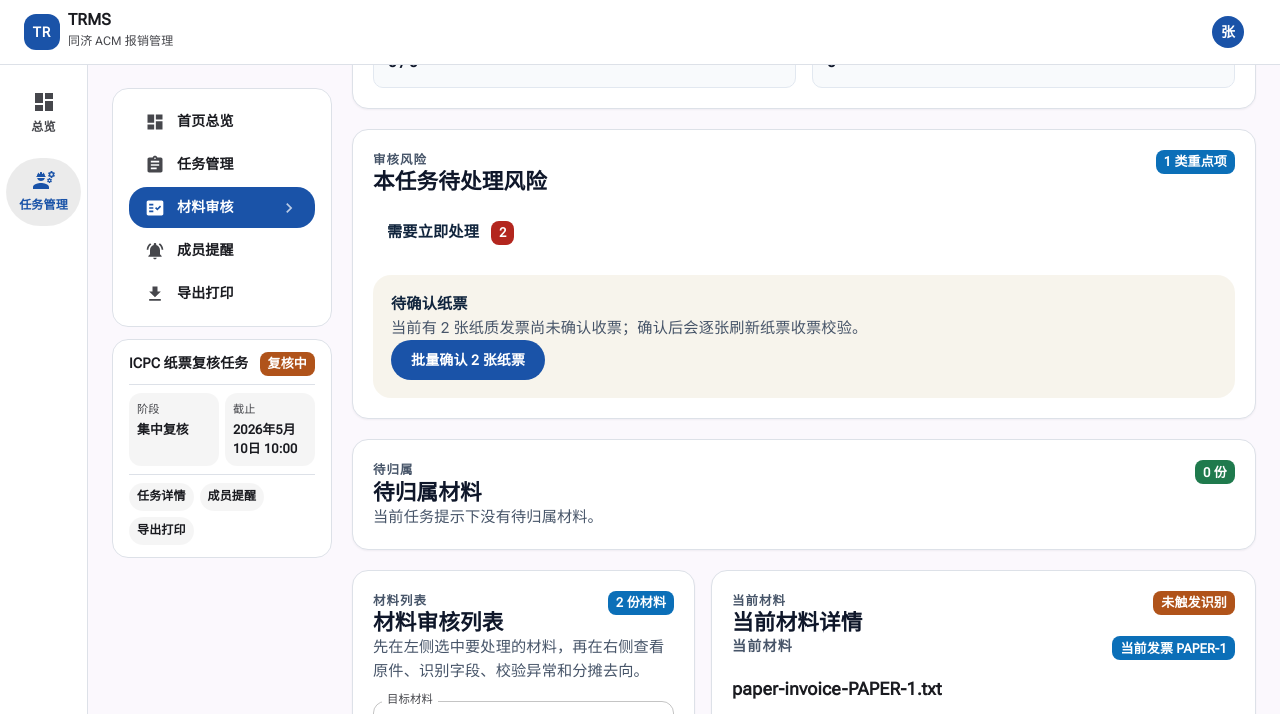
Test: AdminReviewOverviewPage › allows administrators to batch confirm pending paper invoice receipts
(page scrolled)
Check: the heading "待确认纸票" is shown, box 391,295 -> 468,313
Click the button "批量确认 2 张纸票": {"x": 468, "y": 360} 391,340 -> 545,380
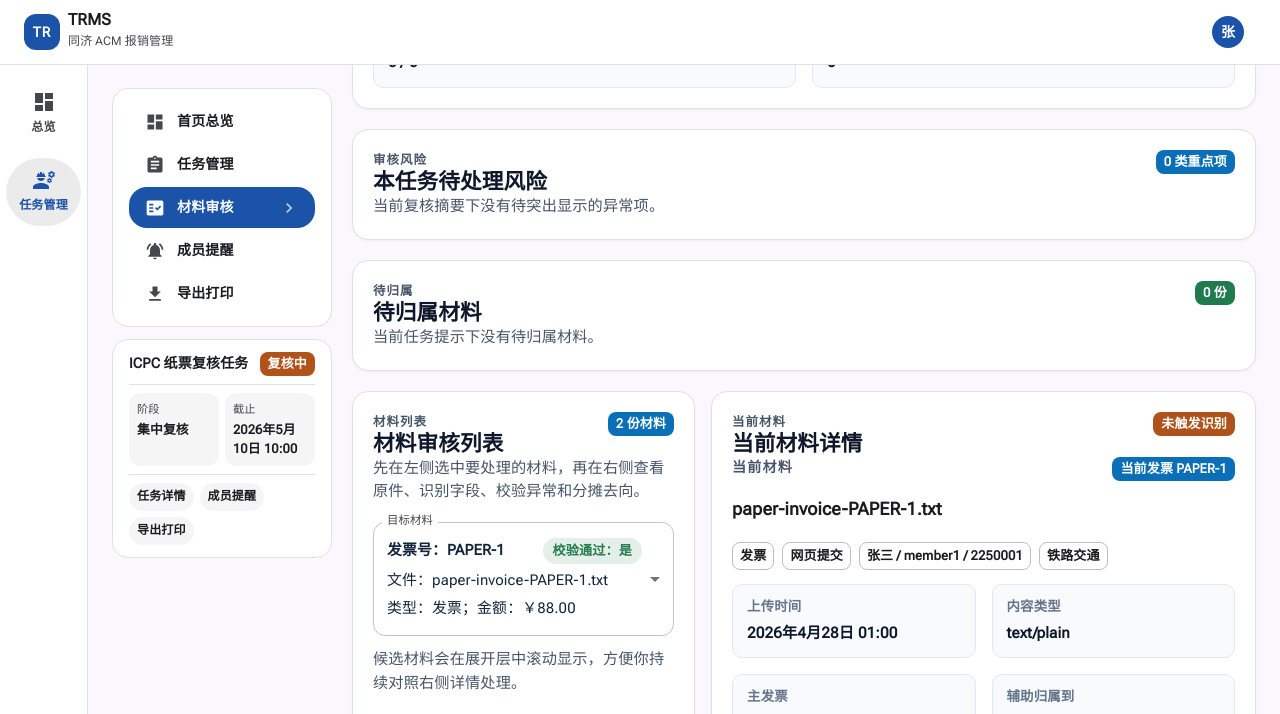
Check: the button "批量确认 2 张纸票" is gone
